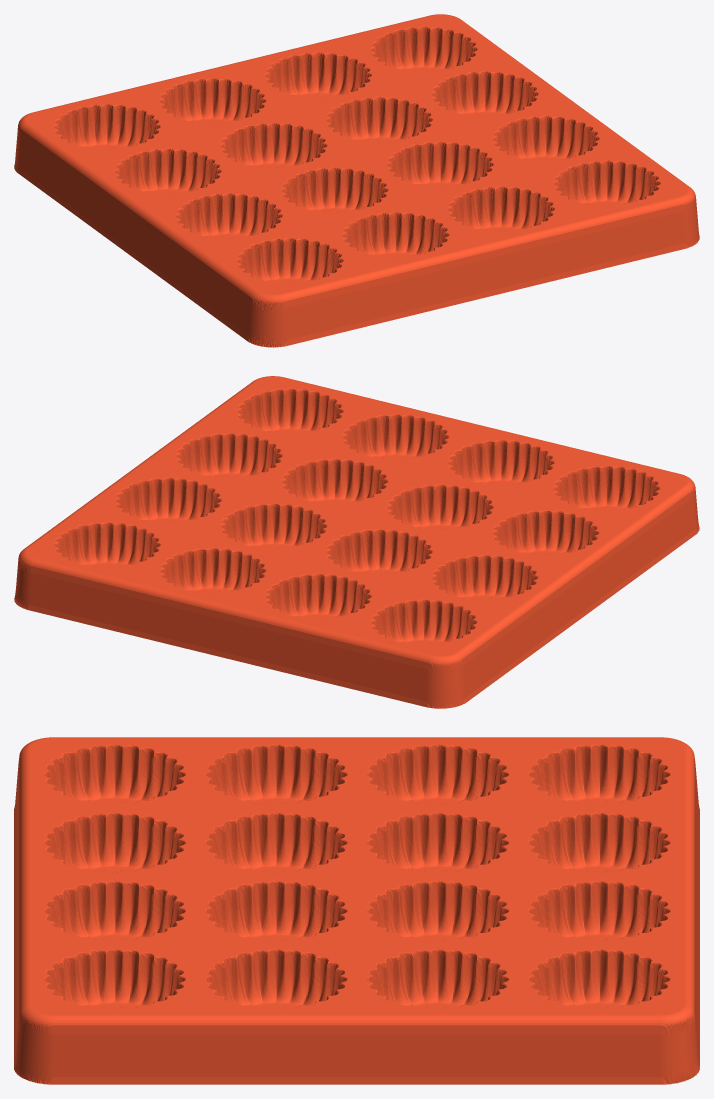
The model's file is mold.glb.
3 renders of one model, top to bottom at view 1: azimuth 30°, elevation 25°; view 2: azimuth 150°, elevation 25°; view 3: azimuth 270°, elevation 25°, orthographic. The views are drawn at different scales.
Parts seen in each view (by area): view 1: geometry_0; view 2: geometry_0; view 3: geometry_0.
Boxes of the visible parts, <box> form: geometry_0: <box>14,14,699,347</box>; geometry_0: <box>14,376,699,708</box>; geometry_0: <box>14,737,699,1084</box>.
Size of the model in its own units: 0.1569 by 0.0159 by 0.1569.
